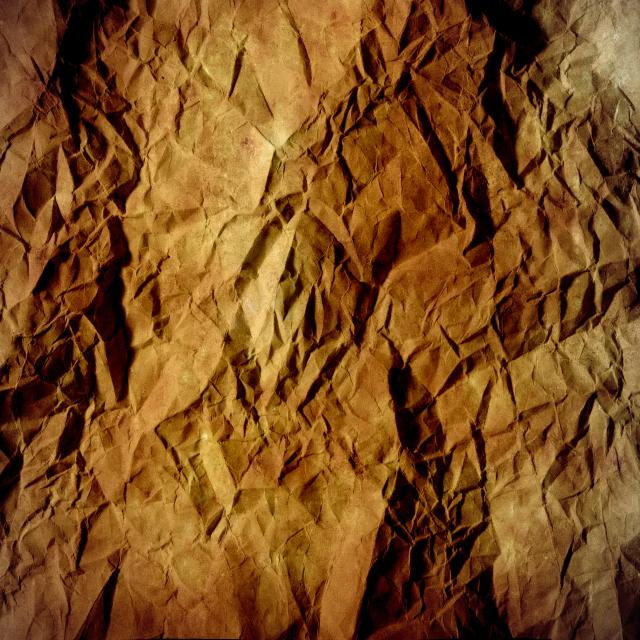cardboard: (119, 119, 516, 509)
